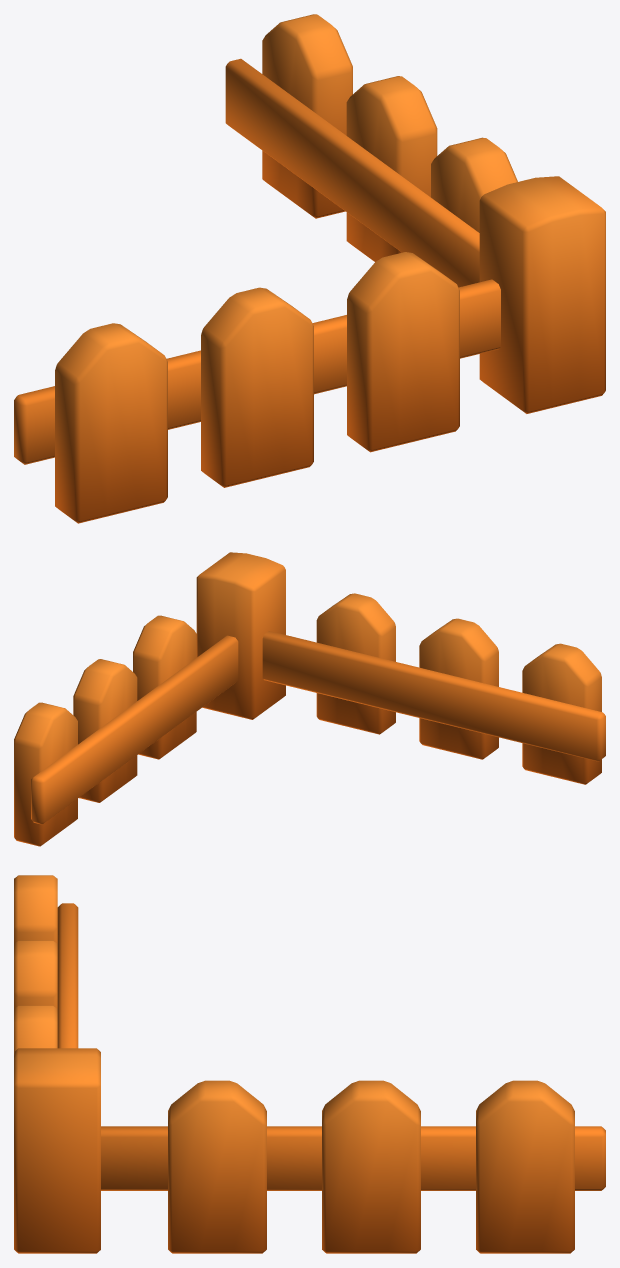
The model's file is Prop_Fence_A_02.fbx.
3 renders of one model, top to bottom at view 1: azimuth 30°, elevation 25°; view 2: azimuth 150°, elevation 25°; view 3: azimuth 270°, elevation 25°, orthographic. The views are drawn at different scales.
Parts seen in each view (by area): view 1: Prop_Fence_A_02; view 2: Prop_Fence_A_02; view 3: Prop_Fence_A_02.
Part boxes in pixels (box(x1,y1,x2,y2)): Prop_Fence_A_02: box(14, 14, 605, 523); Prop_Fence_A_02: box(14, 552, 605, 846); Prop_Fence_A_02: box(14, 875, 605, 1253).
Size of the model in its own units: 190 by 62.23 by 190.
